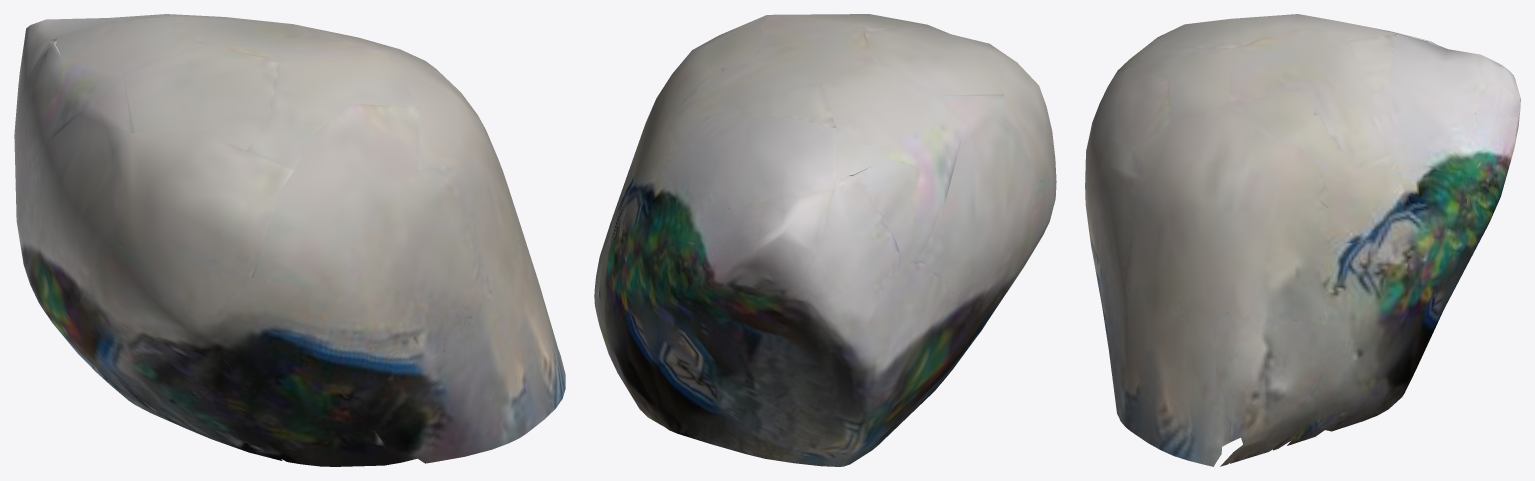
Rendered from hall.glb.
3 views of the same model, side by side, from view 1: azimuth 30°, elevation 25°; view 2: azimuth 150°, elevation 25°; view 3: azimuth 270°, elevation 25° (orthographic). The views are drawn at different scales.
Size of the model in its own units: 0.1638 by 0.1301 by 0.1661.
Materials: 1 (1 with a texture image).
